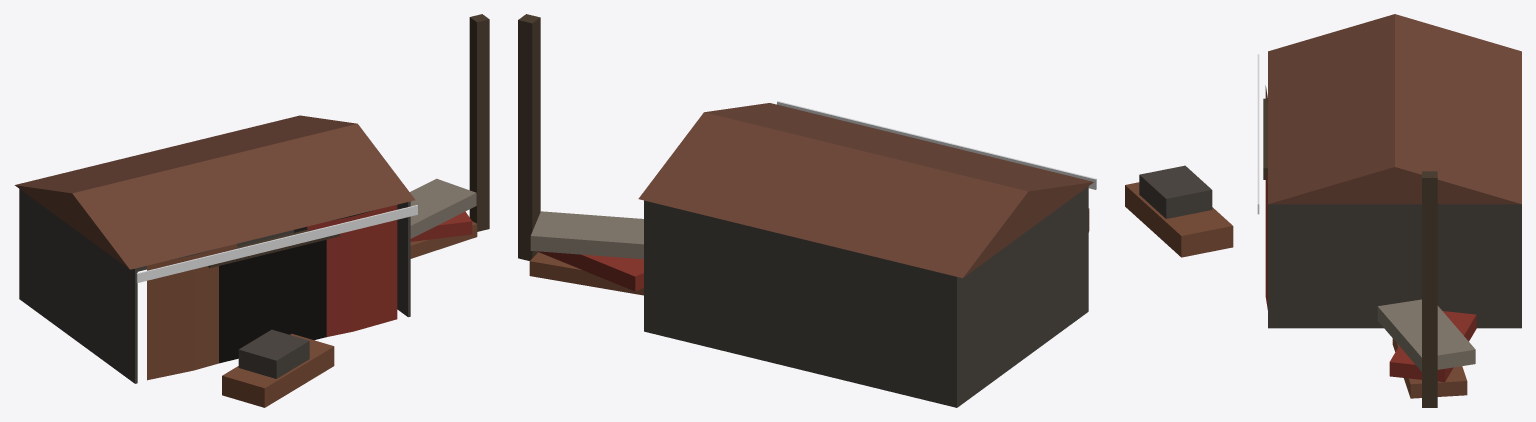
The picture shows the model from 3 angles, left to right: view 1: azimuth 30°, elevation 25°; view 2: azimuth 150°, elevation 25°; view 3: azimuth 270°, elevation 25°; orthographic projection. The views are drawn at different scales.
Visible parts, largest first — view 1: raider_building_garage; view 2: raider_building_garage; view 3: raider_building_garage.
Part boxes in pixels (left/top/right/bottom): raider_building_garage: left=14, top=14, right=489, bottom=407; raider_building_garage: left=518, top=14, right=1096, bottom=407; raider_building_garage: left=1125, top=14, right=1521, bottom=407.
Bounding box in the file's own units: 17.15 × 8 × 12.5.
